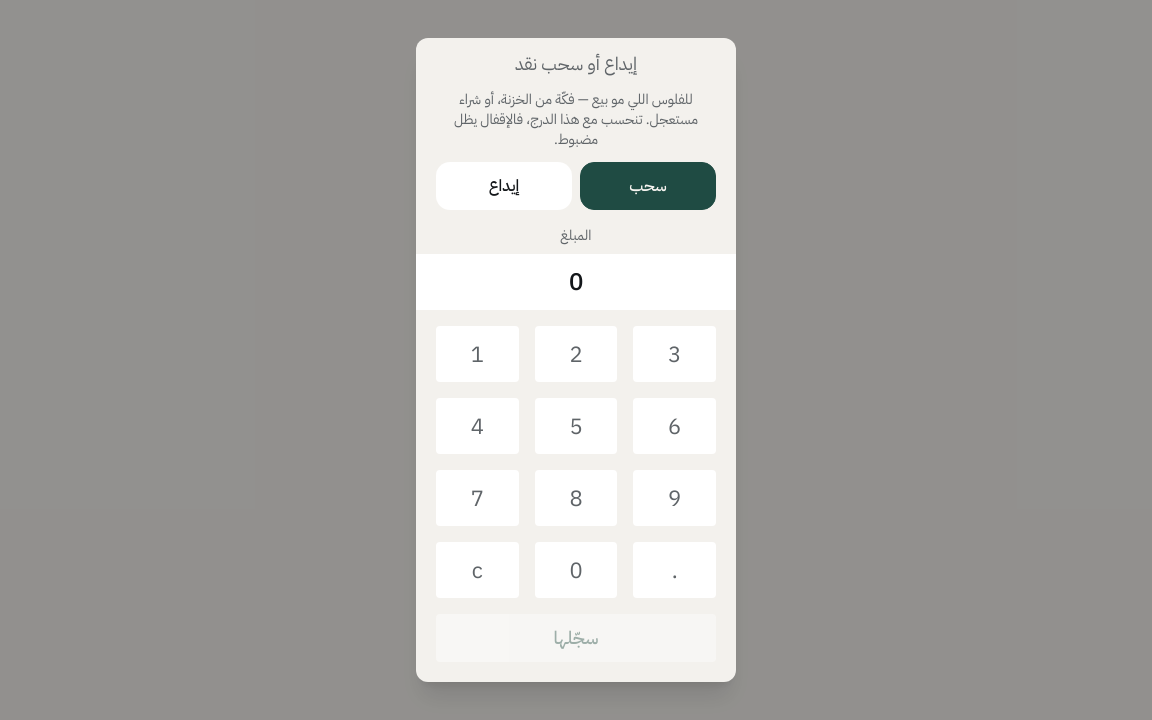
Test case: moving notes in and out of the drawer › asks a manager first when the cashier may not do it alone
This screenshot has width=1152, height=720.
Click the button "1".
click(477, 354)  # box [436, 326, 519, 382]
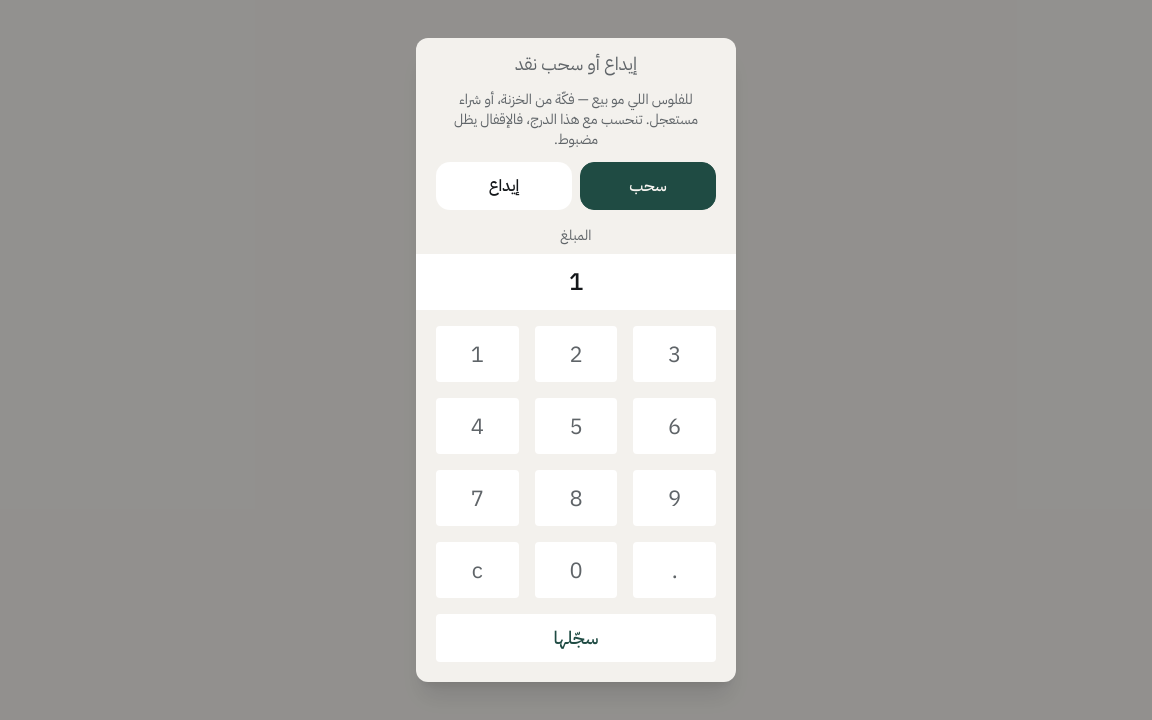
Click the button "0".
click(576, 570)  # box [535, 542, 617, 598]
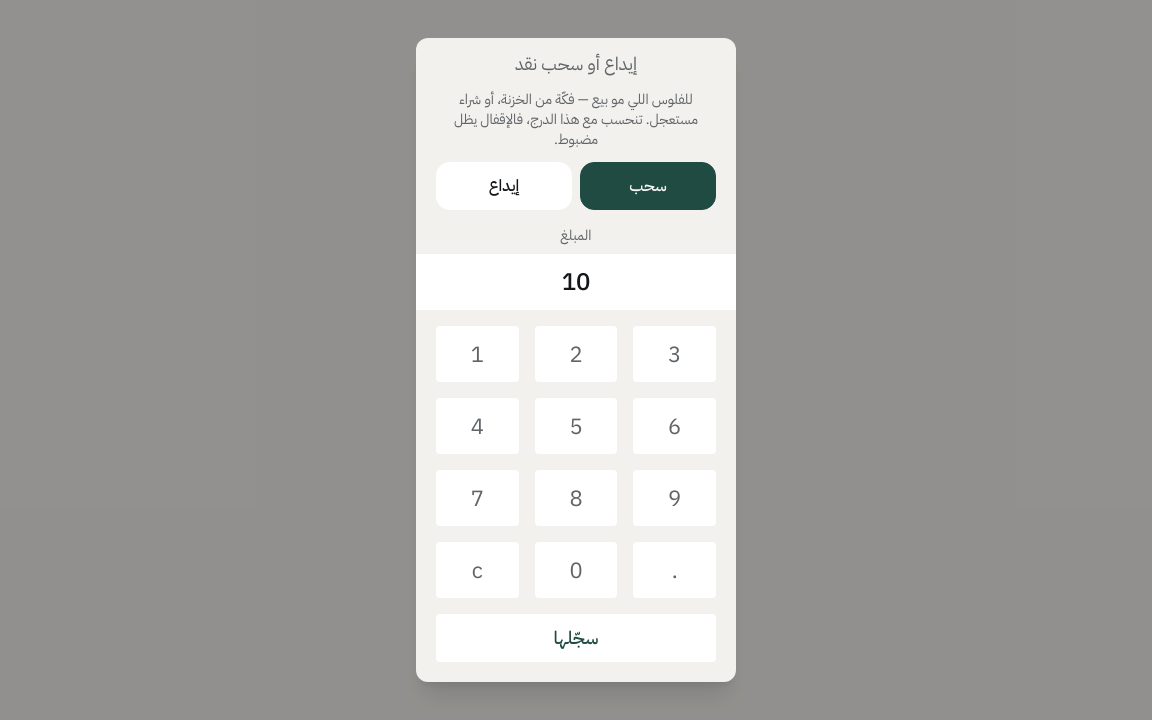
Click the button "سجّلها".
click(576, 638)  # box [436, 614, 716, 662]
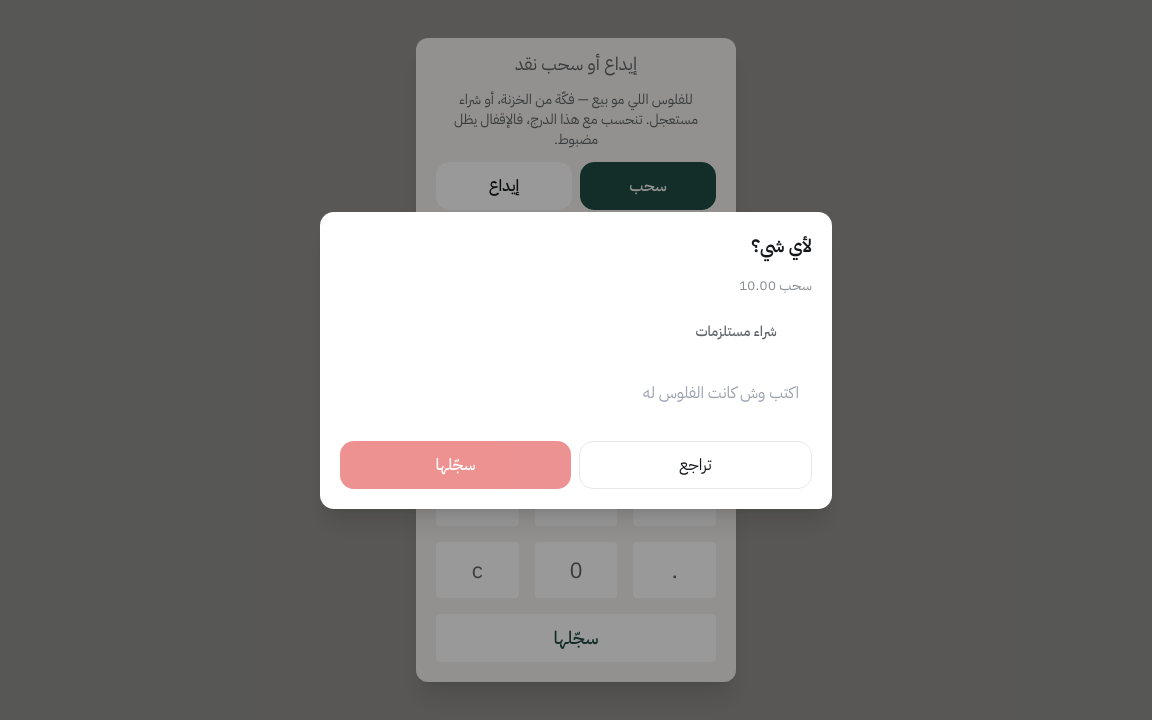
Click the button "شراء مستلزمات".
click(736, 332)  # box [660, 308, 812, 356]
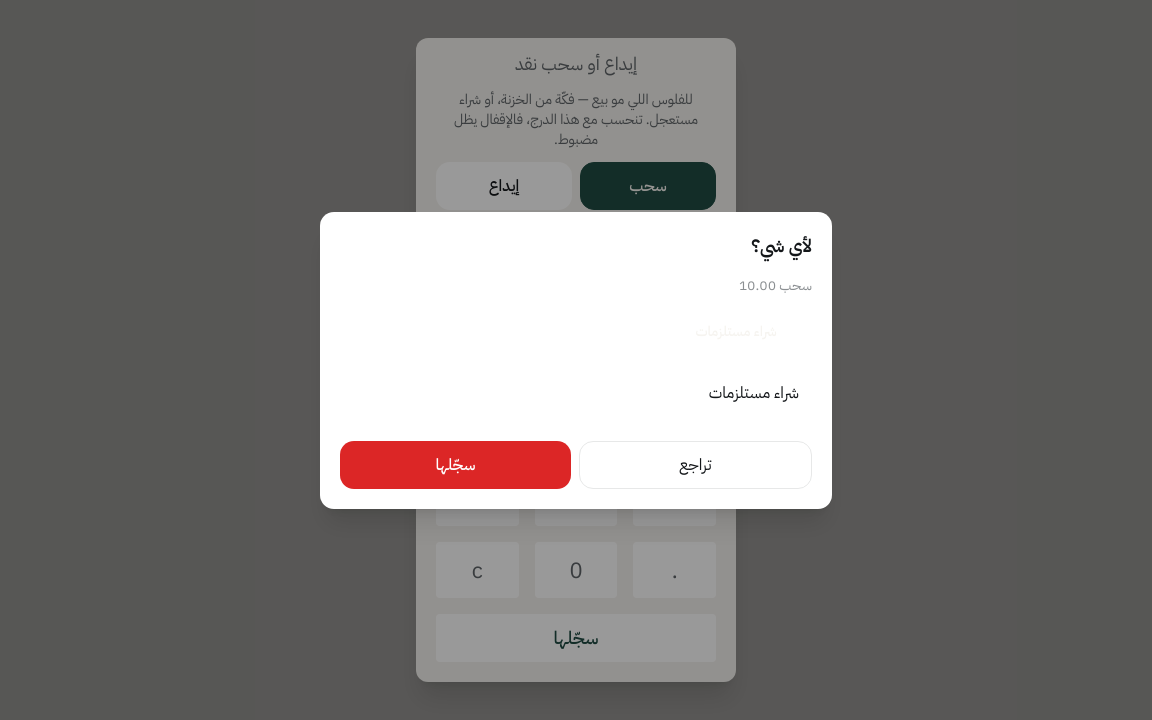
Click the button "سجّلها" below "سحب 10.00".
click(456, 464)  # box [340, 440, 571, 488]
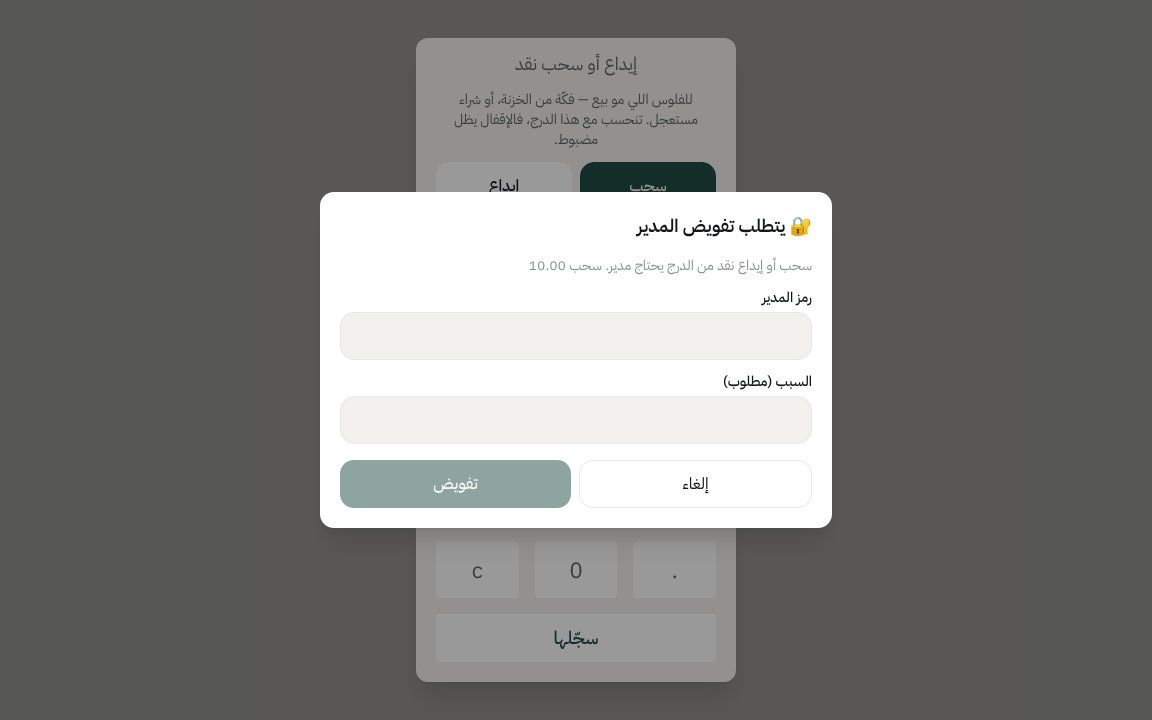
Check: the text "يحتاج مدير" is shown, box [529, 255, 812, 276]
